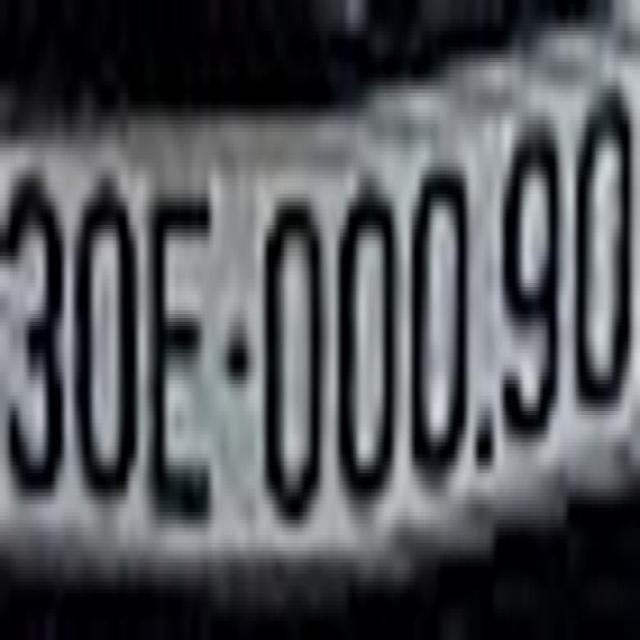0: (71, 167, 142, 520), (261, 175, 322, 528), (407, 152, 468, 496), (574, 89, 632, 419), (335, 187, 394, 500)
3: (0, 155, 66, 519)
9: (500, 124, 562, 462)
E: (148, 167, 218, 531)
